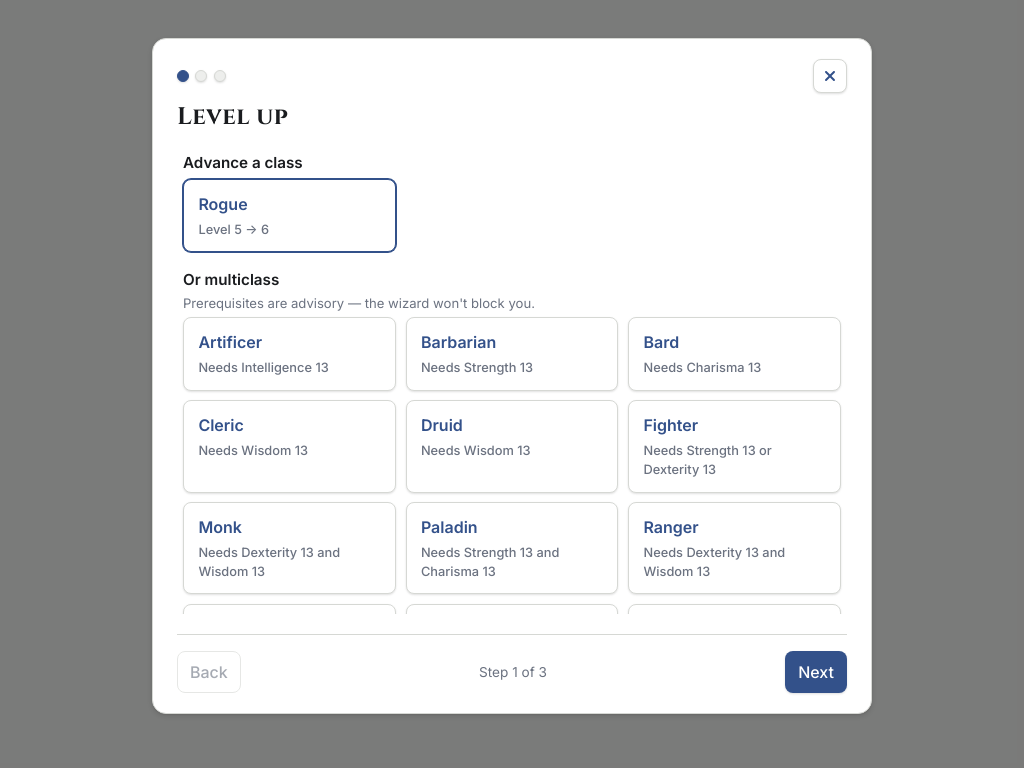
it: LevelUpWizard step routing › shows it at a level that does grant one (rogue 6 expertise)
Click the button "Next" at x=816, y=672, box [785,651,847,693]
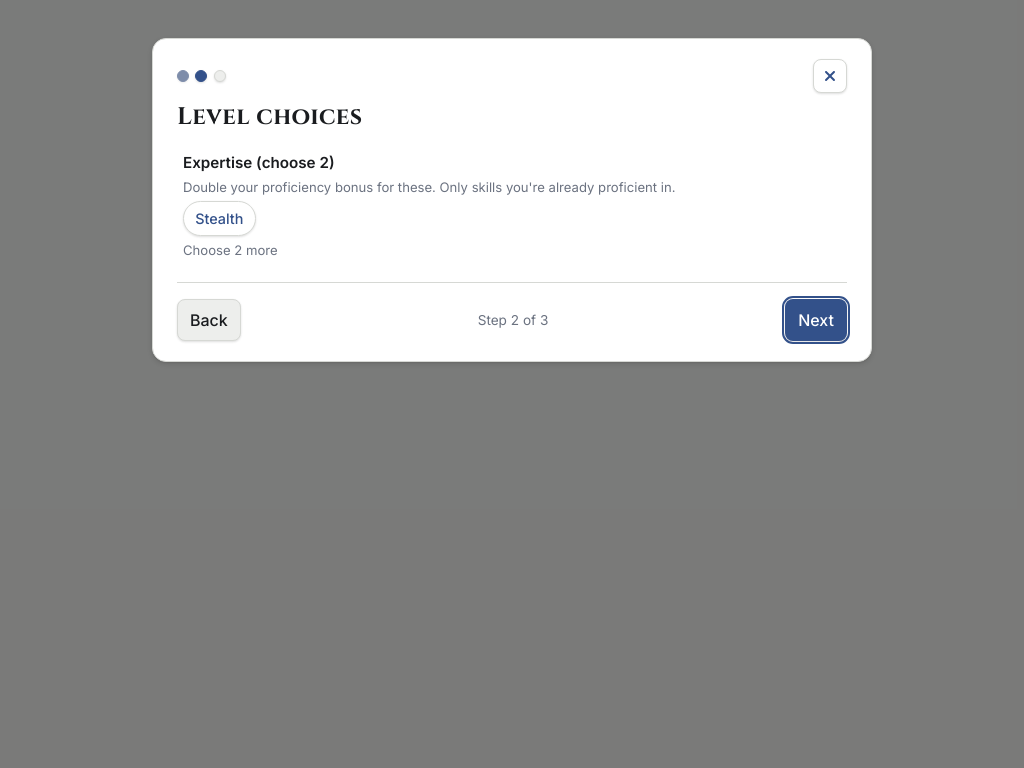
Result: the heading "Level choices" is shown at [177,101,363,133]
Result: the text "Expertise (choose 2)" is shown at [183,153,335,172]
